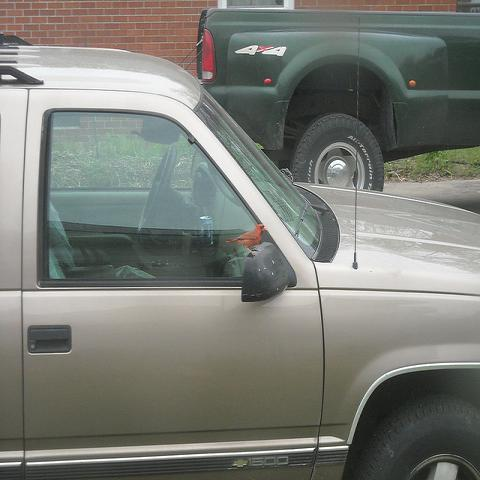truck: (2, 30, 480, 460), (197, 8, 479, 197)
